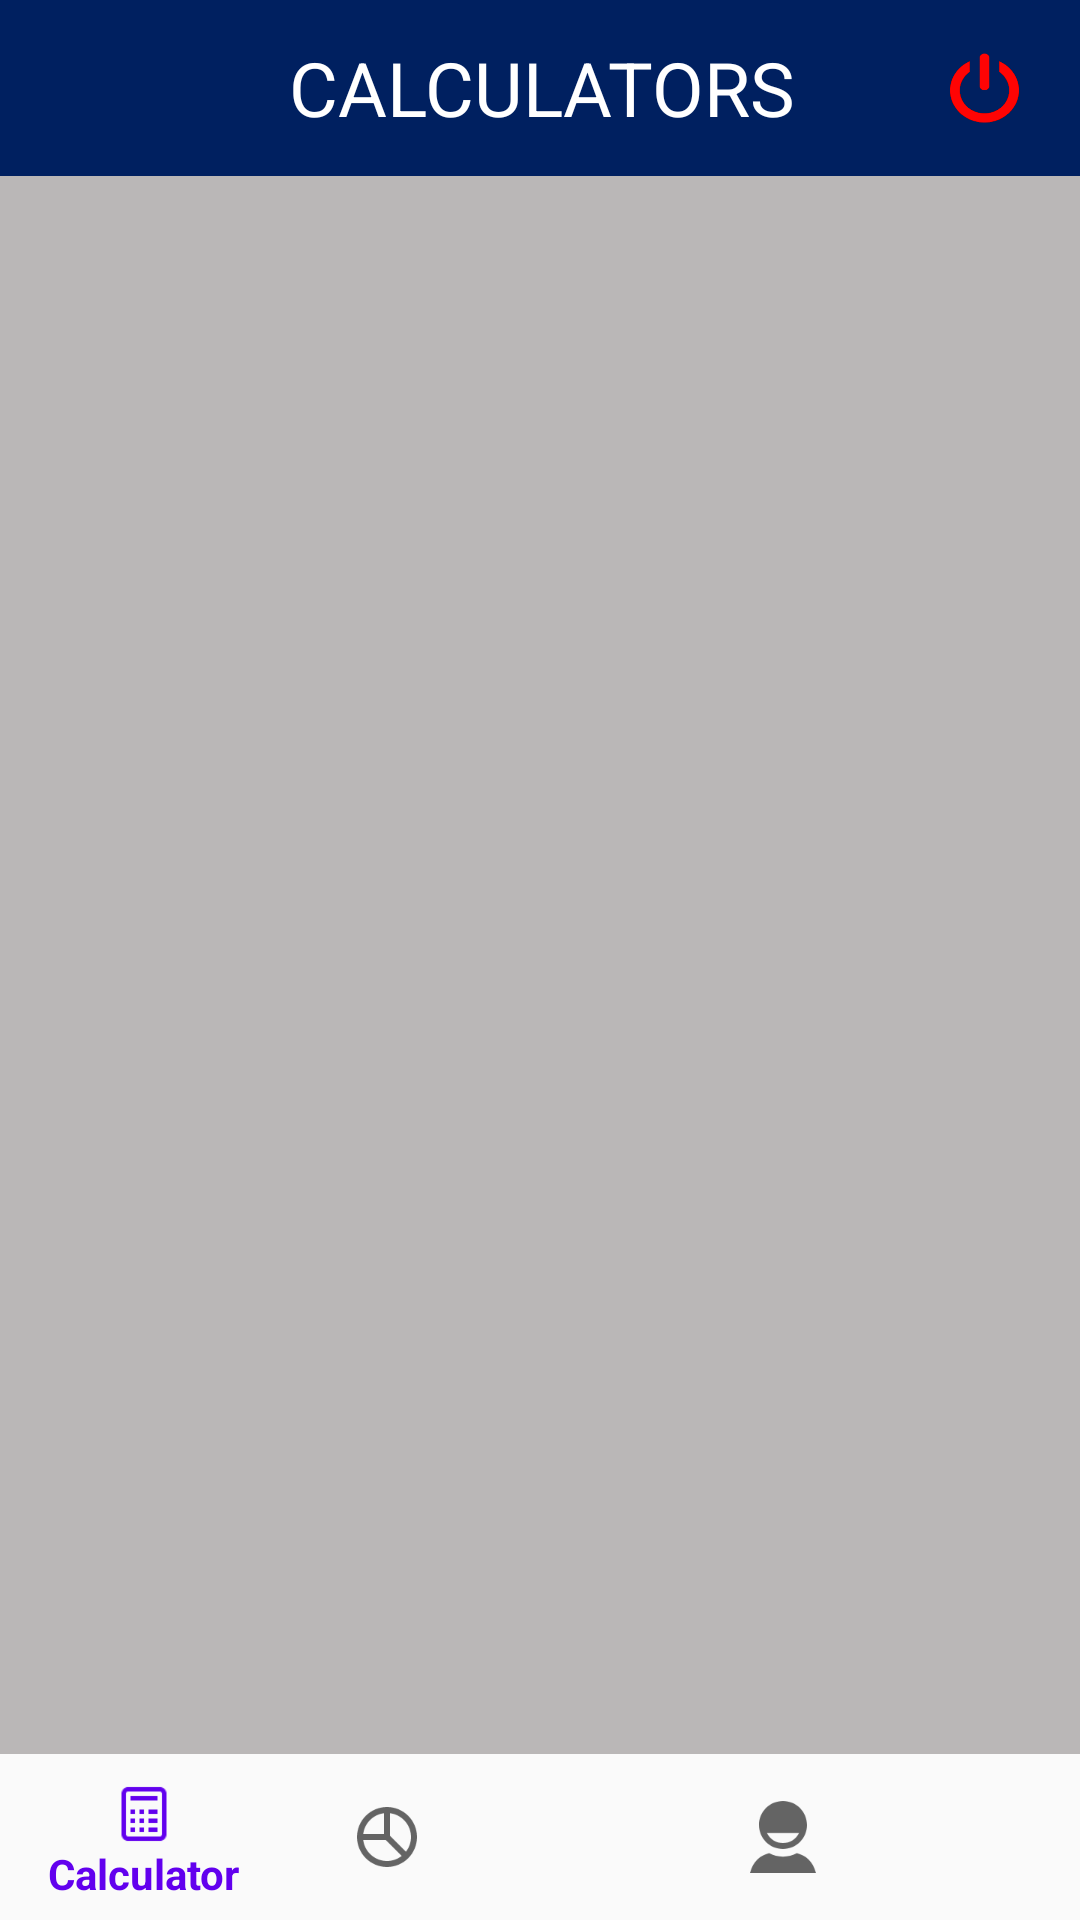

Locate icon controls on the screen. Image size 1080 × 1920, boxes as [x1,y1,x2,y2].
poweroff: [950,53,1019,123]
